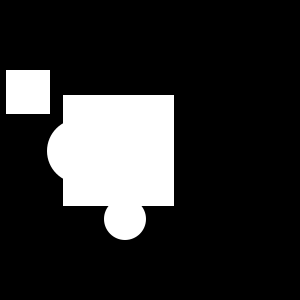circle: (63, 95, 174, 206), (96, 99, 154, 157), (6, 70, 50, 114)
rectangle: (47, 119, 111, 183), (104, 198, 146, 240)
